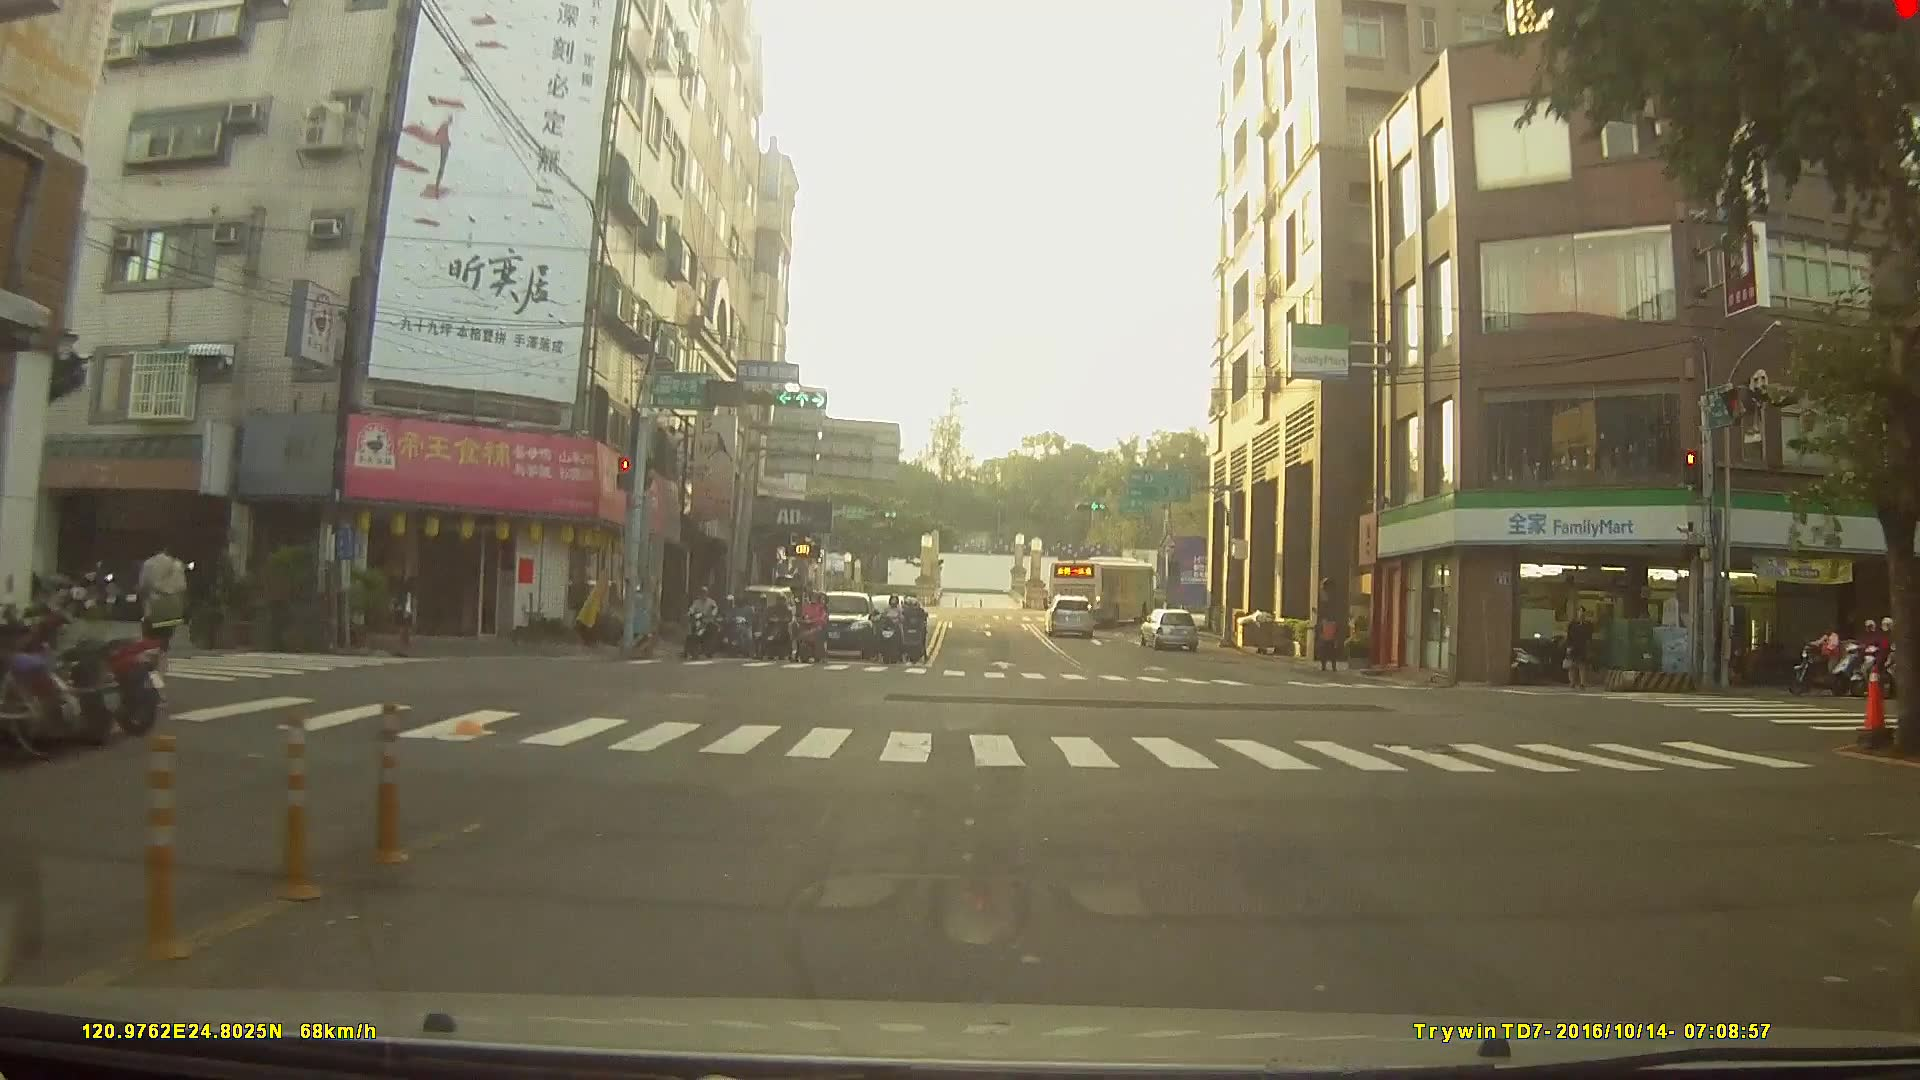pedestrian: (128, 527, 192, 697), (1563, 606, 1594, 696), (390, 579, 425, 659), (1312, 609, 1340, 673)
rider: (1790, 619, 1852, 691), (685, 586, 722, 660), (799, 587, 832, 667), (758, 595, 797, 661), (900, 598, 933, 667), (881, 606, 908, 678), (727, 597, 757, 659)
vehicle: (1047, 553, 1159, 625), (806, 586, 880, 658), (1136, 607, 1200, 650), (1043, 590, 1096, 636)
